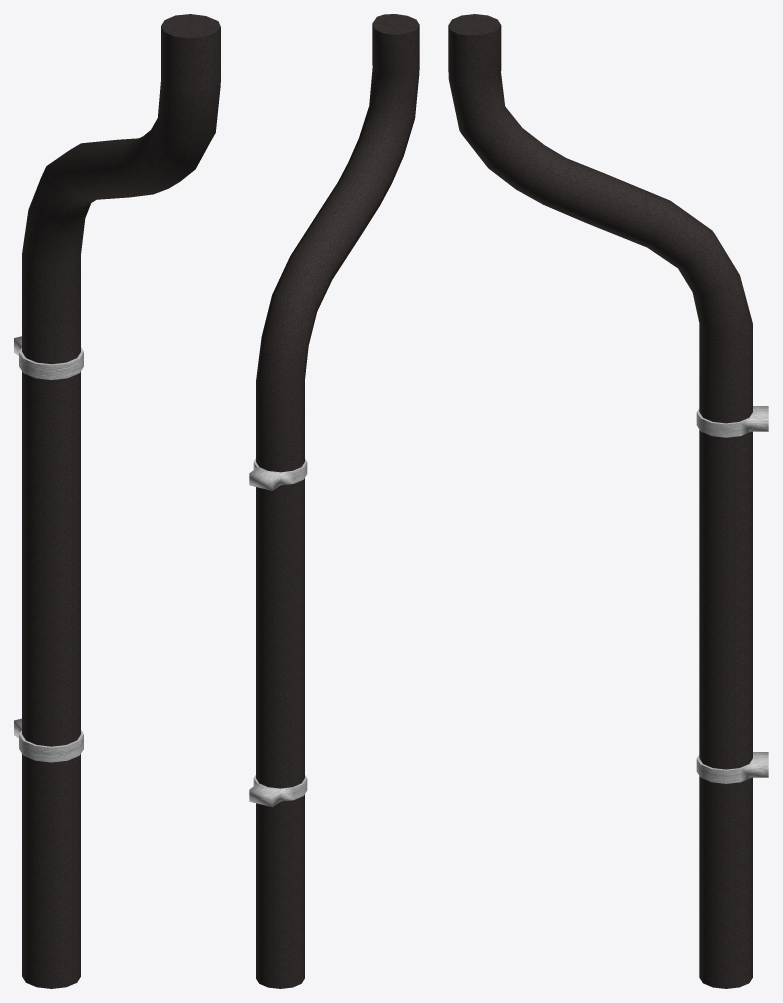
Rendered from drainpipeTop1.glb.
3 views of the same model, side by side, from view 1: azimuth 30°, elevation 25°; view 2: azimuth 150°, elevation 25°; view 3: azimuth 270°, elevation 25° (orthographic). The views are drawn at different scales.
Parts seen in each view (by area): view 1: BezierCurve; view 2: BezierCurve; view 3: BezierCurve.
Boxes of the visible parts, x1,y1,x2,y2 form: BezierCurve: (14,14,220,988); BezierCurve: (249,14,419,988); BezierCurve: (448,14,768,988).
Size of the model in its own units: 0.3904 by 6.98 by 2.12.
2 materials, 2 textured.
